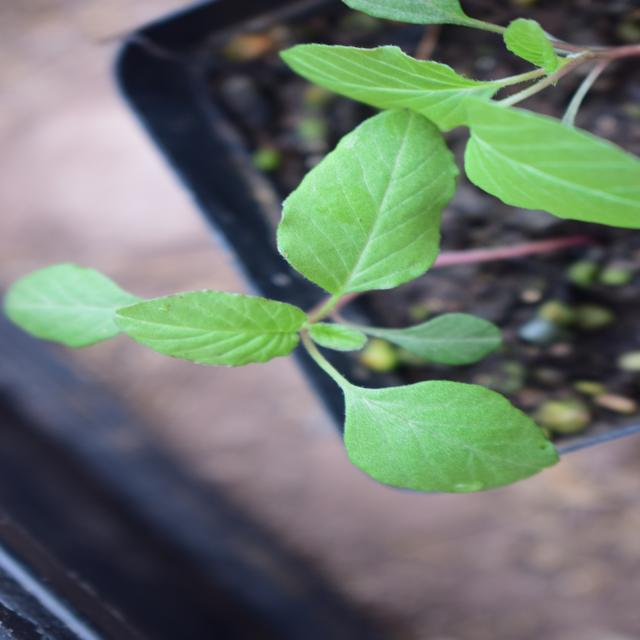pigweed: (104, 60, 504, 528)
